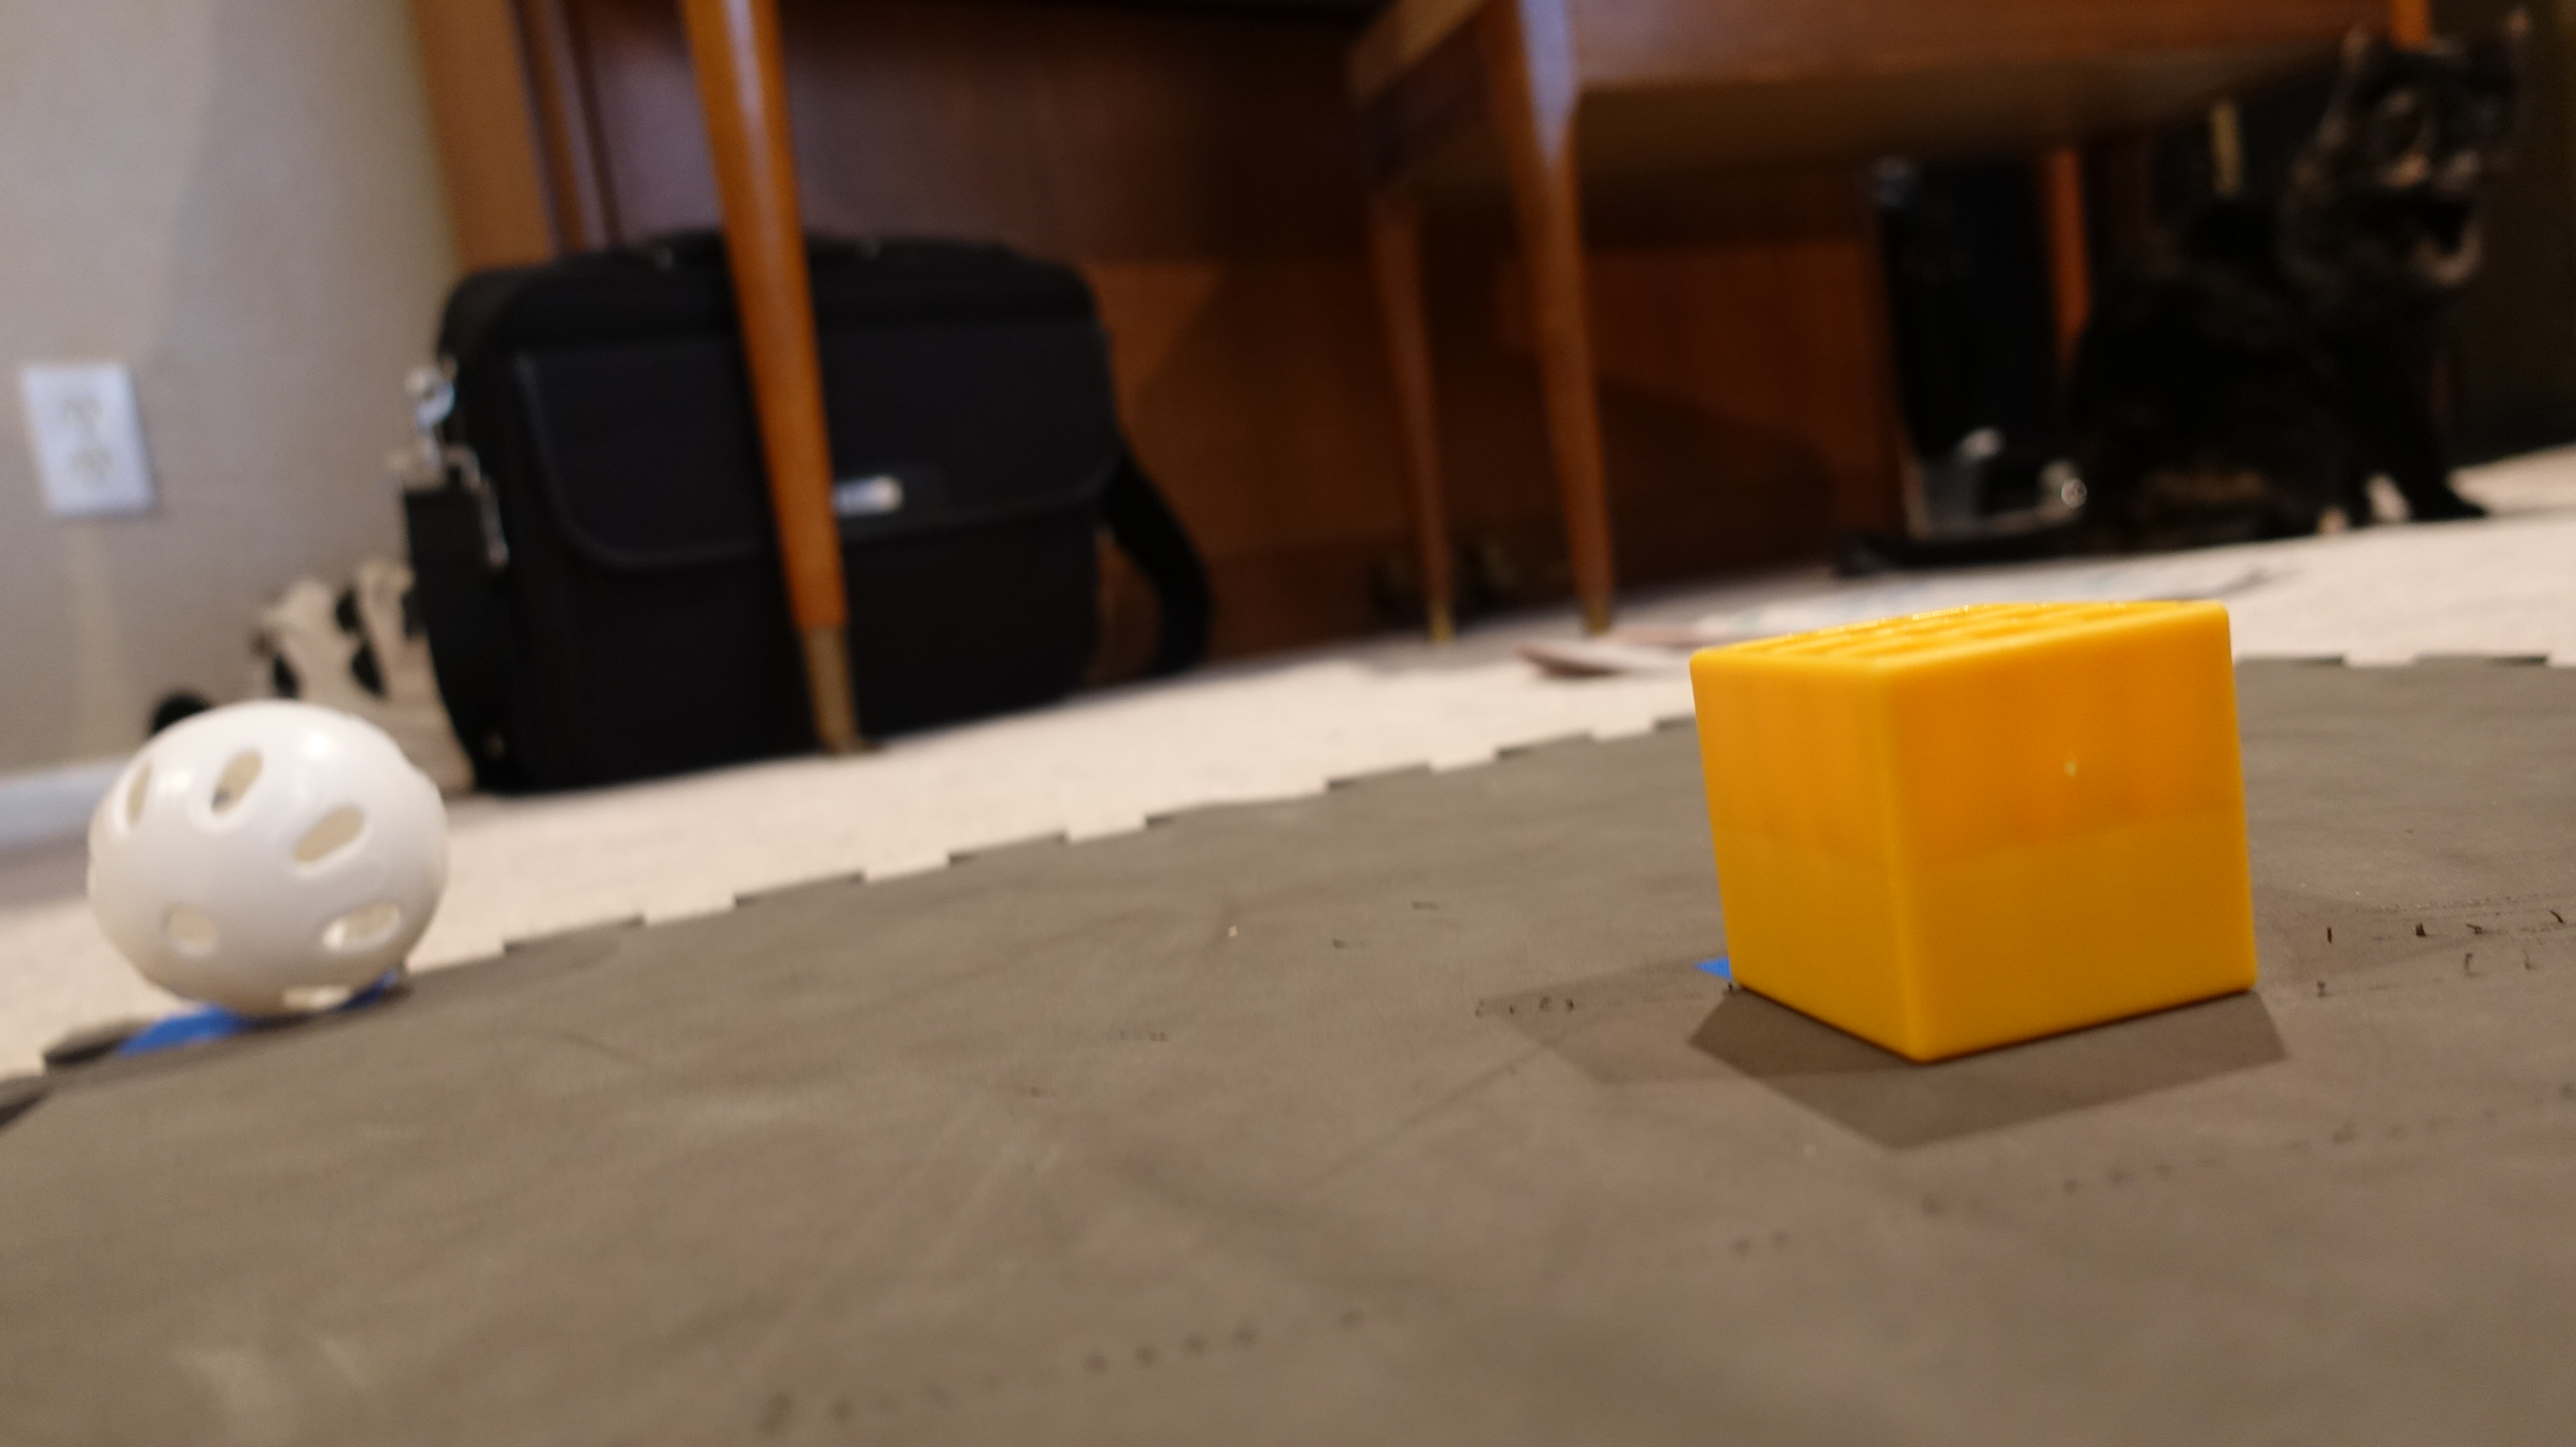gold: (1681, 596, 2265, 1065)
silver: (85, 697, 449, 1024)
